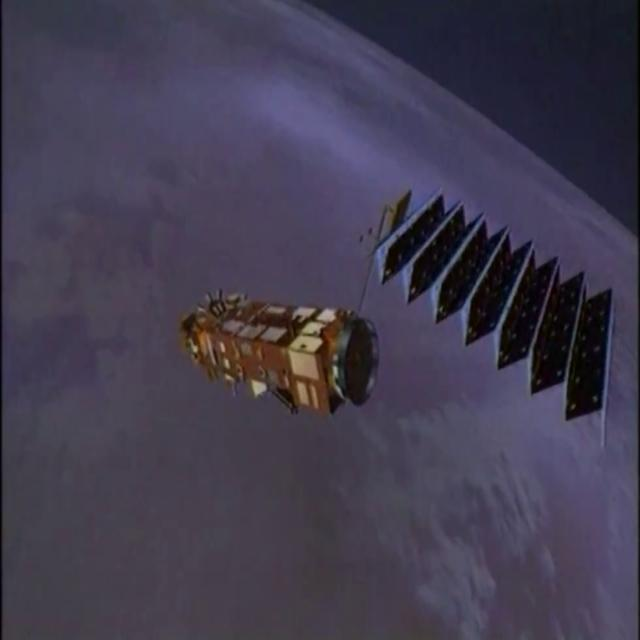large_debris: (368, 202, 626, 440)
medium_debris: (176, 264, 383, 427)
